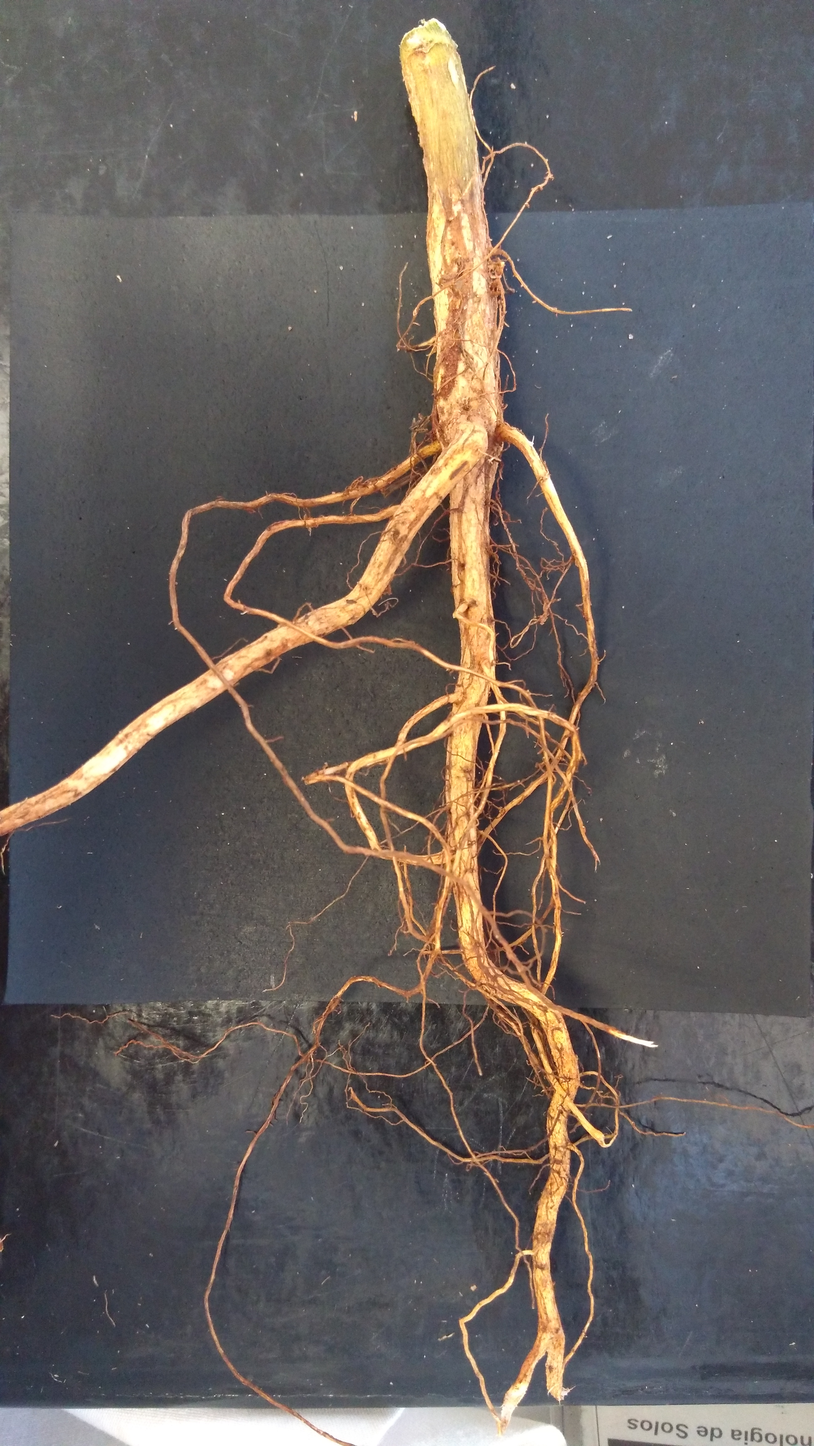nodule: (439, 402, 468, 442), (440, 324, 462, 350), (487, 256, 505, 279), (441, 263, 460, 281), (490, 277, 502, 292), (380, 583, 393, 595), (451, 297, 461, 311), (542, 602, 550, 616), (457, 603, 468, 613), (412, 306, 420, 317), (539, 615, 547, 623), (470, 1284, 477, 1291), (540, 621, 545, 626), (449, 217, 454, 221), (445, 384, 448, 389), (331, 491, 335, 494)
